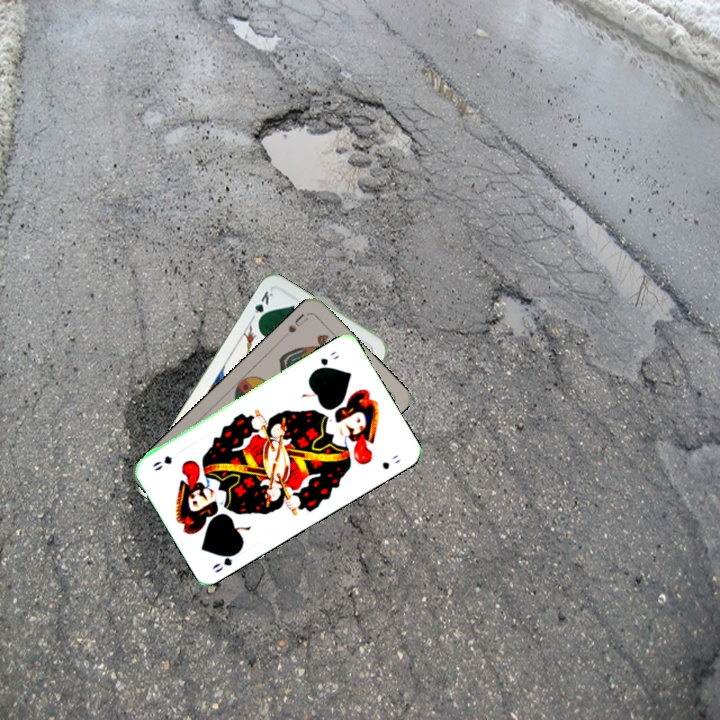GK: (247, 287, 276, 325)
GO: (208, 545, 244, 575), (310, 347, 342, 374)
SU: (284, 309, 312, 335)
